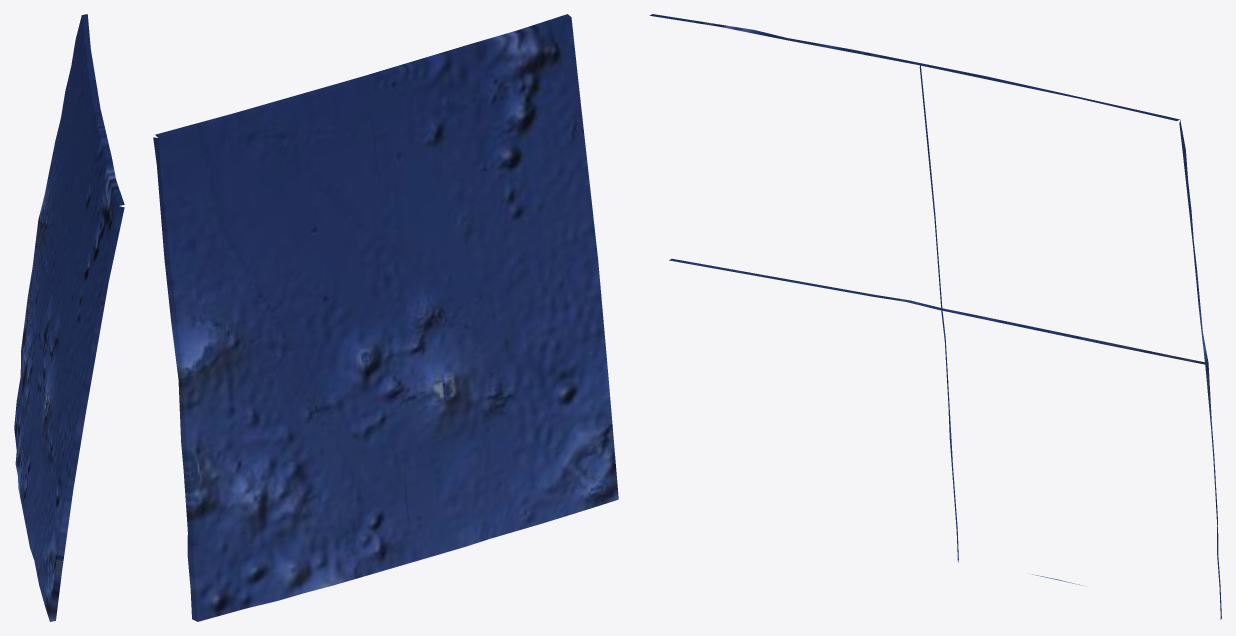
3 views of the same model, side by side, from view 1: azimuth 30°, elevation 25°; view 2: azimuth 150°, elevation 25°; view 3: azimuth 270°, elevation 25° (orthographic). The views are drawn at different scales.
Bounding box in the file's own units: 358572 × 623368 × 605767.
1 material, 1 textured.
